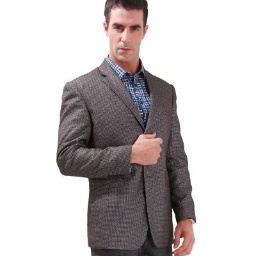face: (101, 1, 150, 66)
